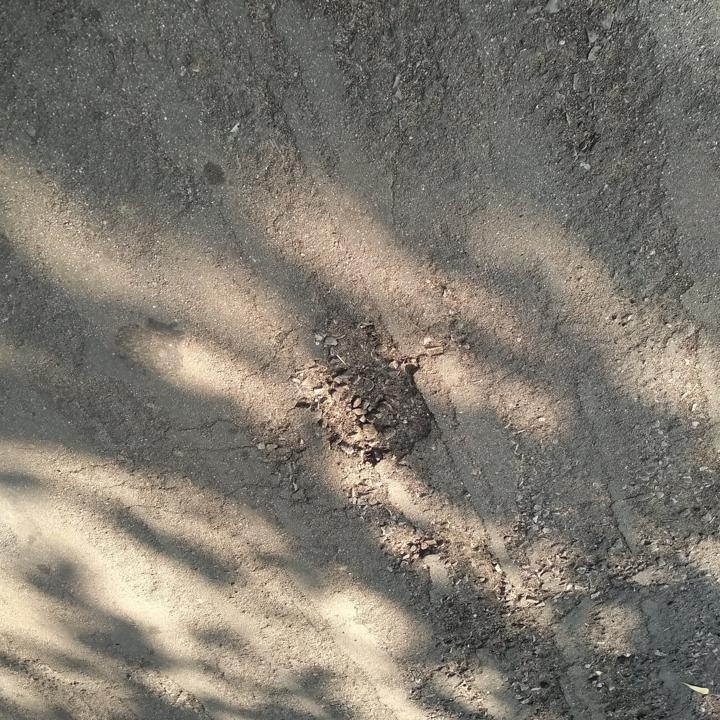pothole: (291, 322, 443, 460)
